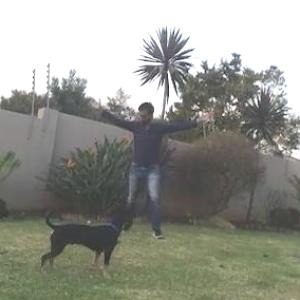takeoff: (93, 100, 215, 227)
